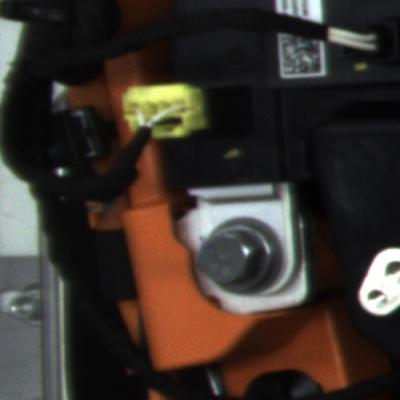nut_b: (188, 209, 296, 303)
